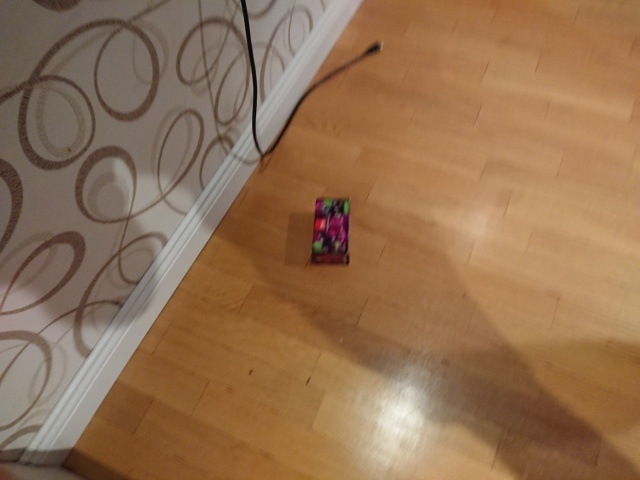Franck Black Currant Tea 60g: (308, 194, 353, 266)
